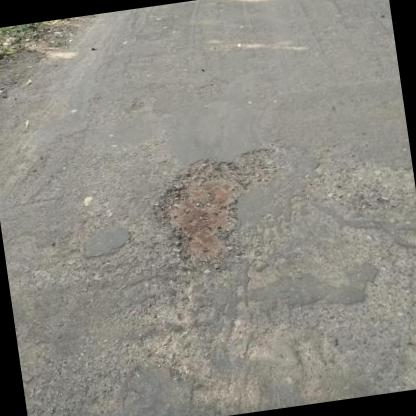pothole: (145, 143, 294, 274)
